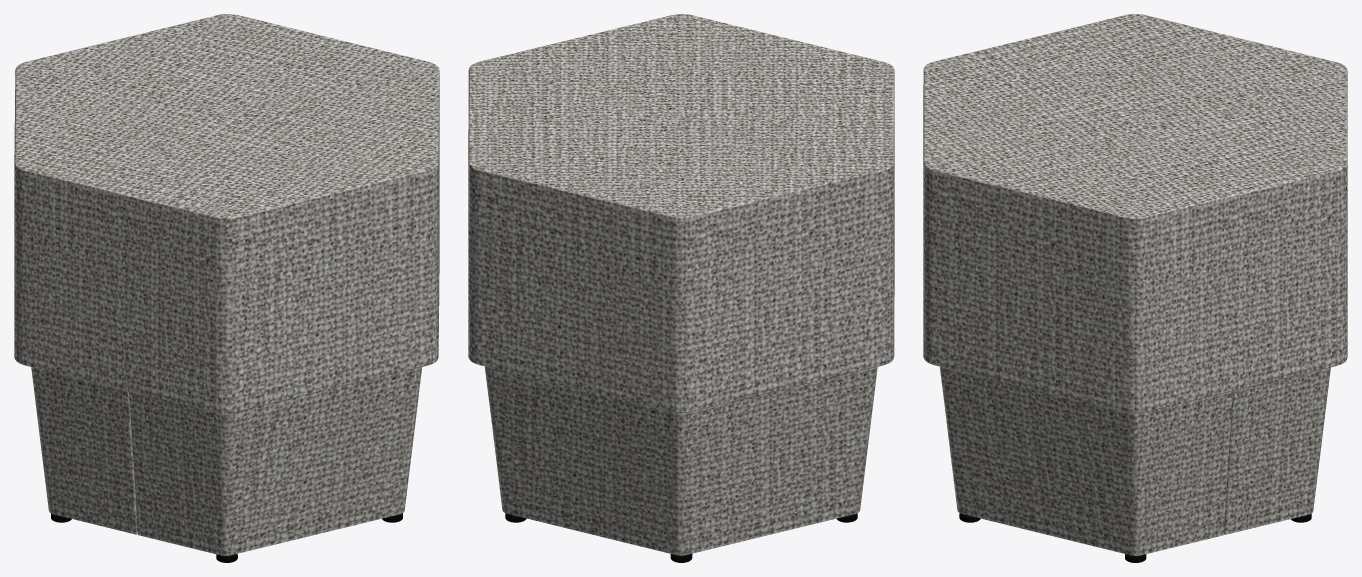
3 views of the same model, side by side, from view 1: azimuth 30°, elevation 25°; view 2: azimuth 150°, elevation 25°; view 3: azimuth 270°, elevation 25° (orthographic).
Parts seen in each view (by area): view 1: a340251d-787c-4efc-af0d-1b9361bf6b81, a1973199-2750-4b1c-b522-e17580dd490c_0; view 2: a340251d-787c-4efc-af0d-1b9361bf6b81, a1973199-2750-4b1c-b522-e17580dd490c_0; view 3: a340251d-787c-4efc-af0d-1b9361bf6b81, a1973199-2750-4b1c-b522-e17580dd490c_0.
Boxes of the visible parts, x1,y1,x2,y2 form: a340251d-787c-4efc-af0d-1b9361bf6b81: (14,14,439,413); a1973199-2750-4b1c-b522-e17580dd490c_0: (31,367,422,555); a340251d-787c-4efc-af0d-1b9361bf6b81: (468,14,894,412); a1973199-2750-4b1c-b522-e17580dd490c_0: (484,366,877,555); a340251d-787c-4efc-af0d-1b9361bf6b81: (923,14,1347,413); a1973199-2750-4b1c-b522-e17580dd490c_0: (940,366,1330,555).
Size of the model in its own units: 0.4974 by 0.4105 by 0.4355.
3 materials, 2 textured.
